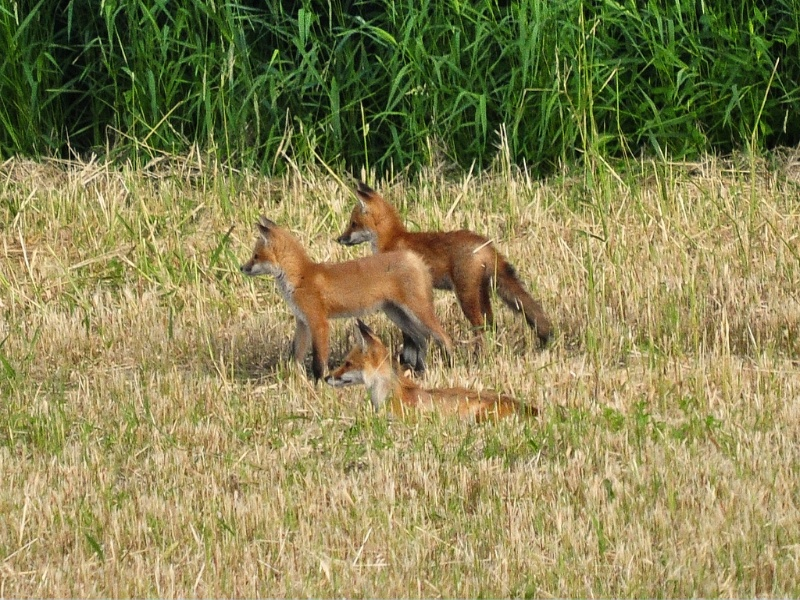fox: (332, 181, 561, 369), (237, 215, 458, 376), (325, 317, 554, 441)
